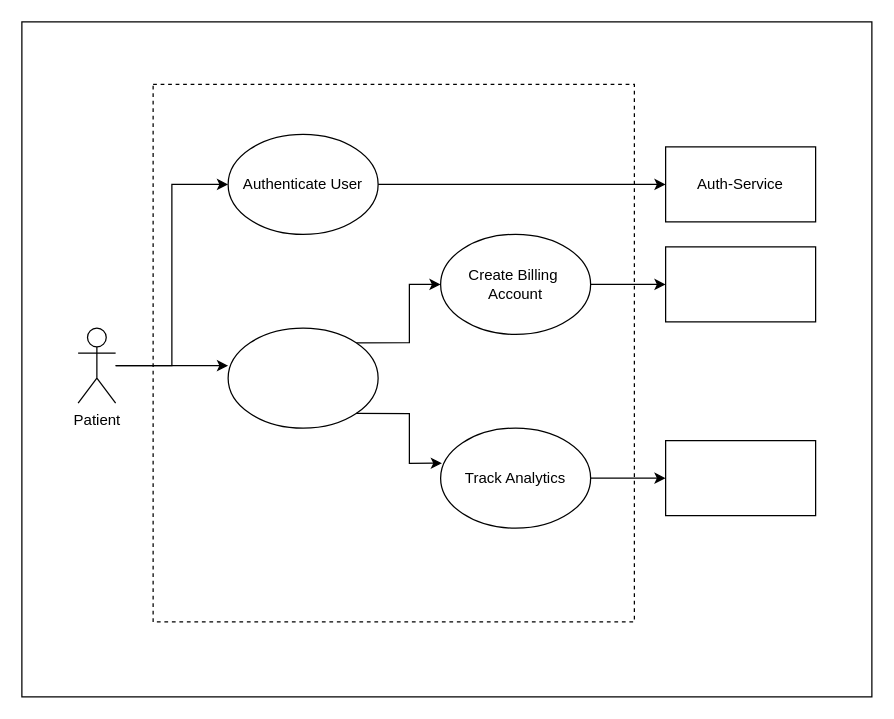
Some shapes in this 894 by 719 pixel diagram are drawn without their labels. The shapes that lost their labels are listed below. From the top down, each one's centre as x and y in pixels, then its label:
(x=740, y=284): Billing-Service
(x=302, y=377): Register User
(x=740, y=477): Analytics-Service
